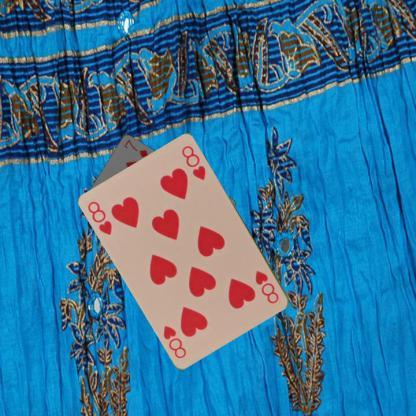8h: (85, 198, 114, 238), (252, 268, 281, 306)
